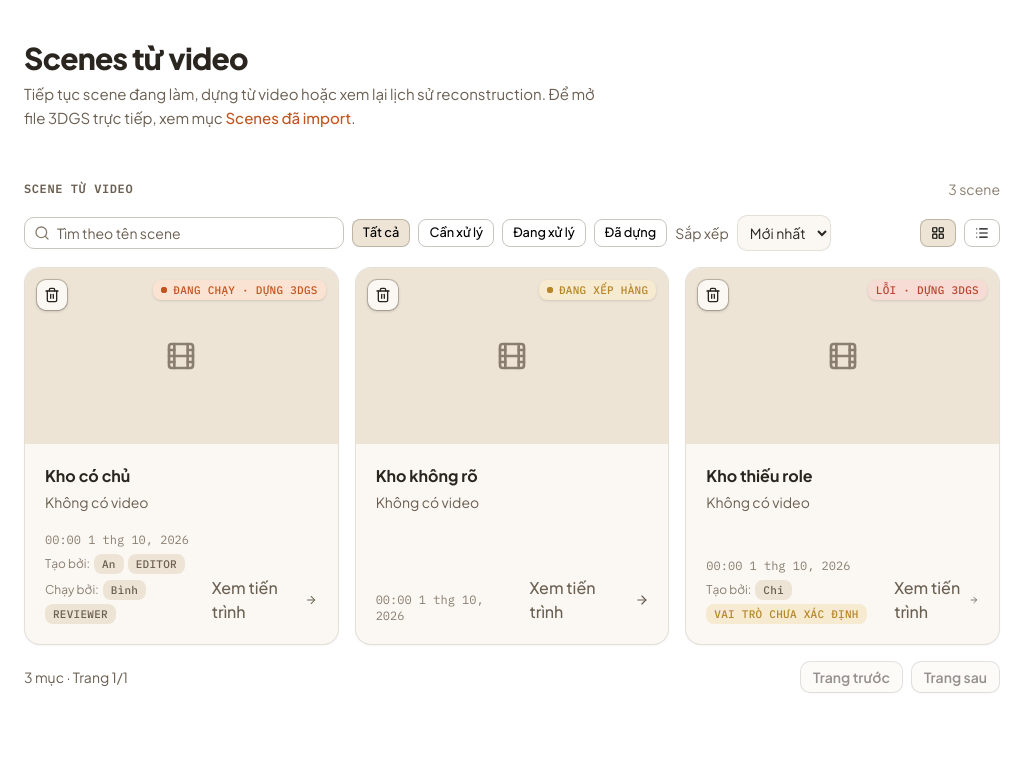
Test: Tổng quan và thư viện riêng › thẻ scene ghi rõ ai tạo và ai chạy lại gần nhất; không biết thì không ghi
The image size is (1024, 768).
Check: the link "Kho có chủ" shows "Editor", box [24, 267, 339, 645]
Check: the link "Kho có chủ" shows "Reviewer", box [24, 267, 339, 645]
Click the radio button named "Danh sách" at (982, 233), box [964, 219, 1000, 247]
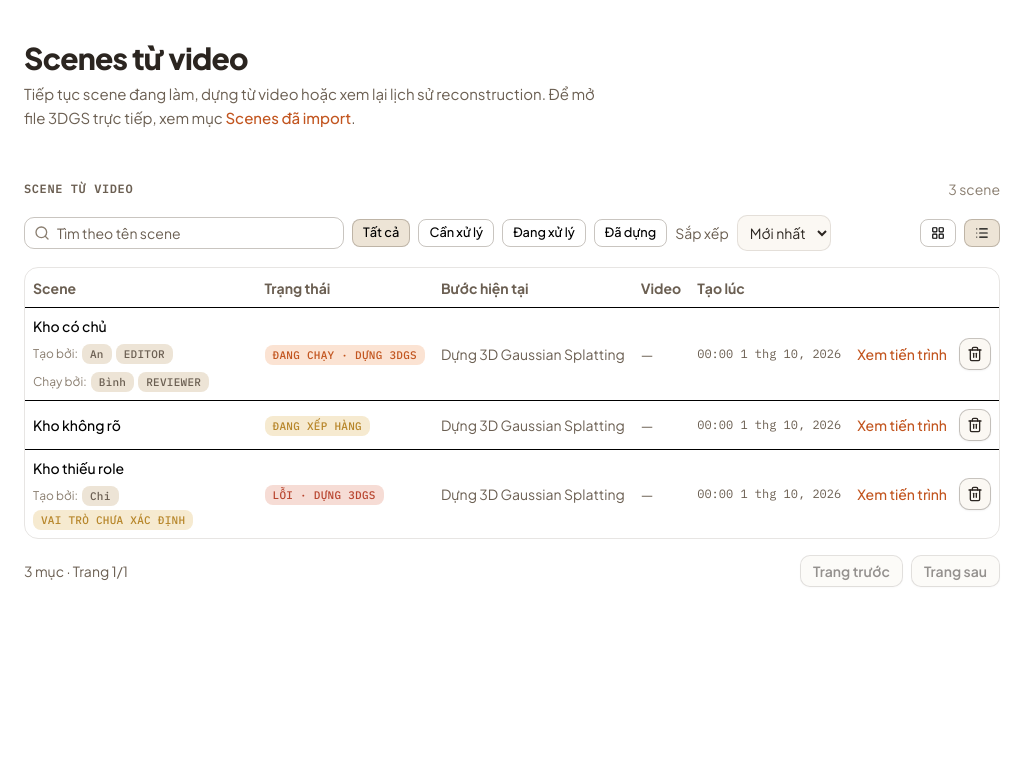
Check: the row "Kho có chủ" shows "Editor", box [124, 347, 165, 361]
Check: the row "Kho có chủ" shows "Reviewer", box [146, 375, 201, 389]
